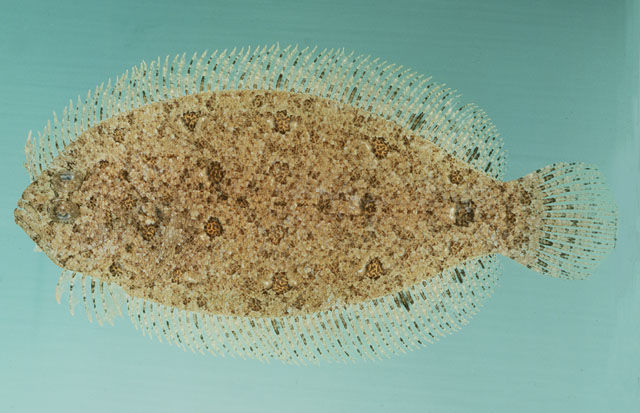fish: (15, 44, 617, 359)
